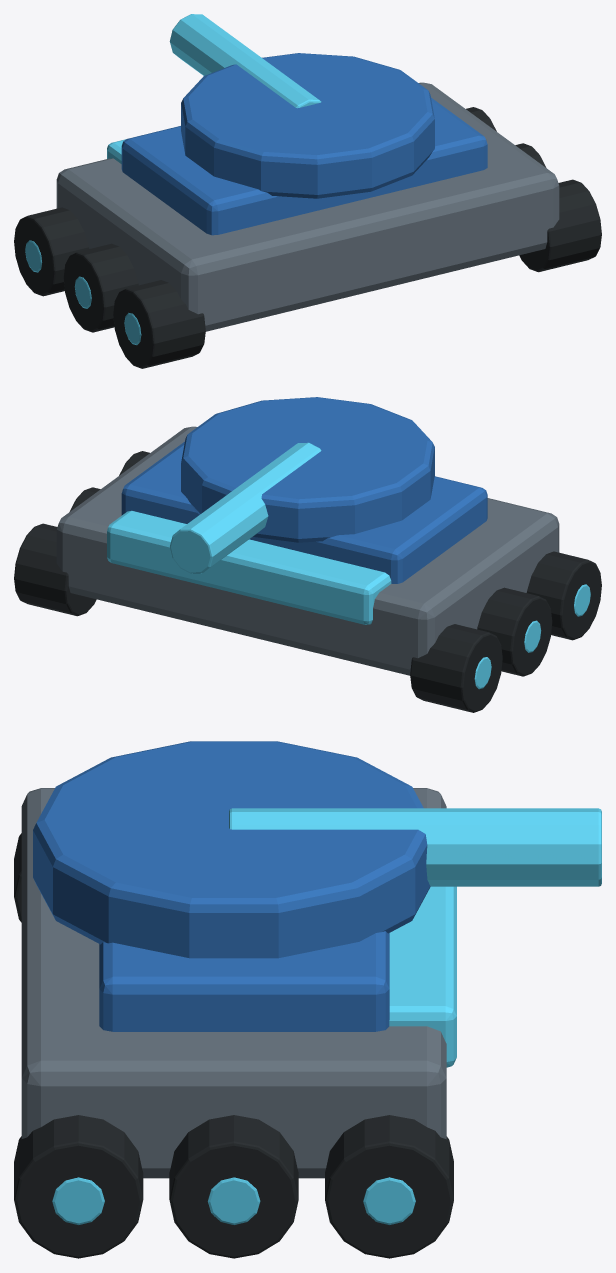
Rendered from SM_Alliance_AL_BulwarkMBT.fbx.
3 views of the same model, one above another, from view 1: azimuth 30°, elevation 25°; view 2: azimuth 150°, elevation 25°; view 3: azimuth 270°, elevation 25° (orthographic). The views are drawn at different scales.
Parts seen in each view (by area): view 1: SM_Alliance_AL_BulwarkMBT, SM_Alliance_AL_BulwarkMBT_Turret, SM_Alliance_AL_BulwarkMBT_UpperHull, SM_Alliance_AL_BulwarkMBT_Wheel_00, SM_Alliance_AL_BulwarkMBT_Barrel, SM_Alliance_AL_BulwarkMBT_Wheel_01, SM_Alliance_AL_BulwarkMBT_Wheel_02, SM_Alliance_AL_BulwarkMBT_Wheel_03; view 2: SM_Alliance_AL_BulwarkMBT, SM_Alliance_AL_BulwarkMBT_Turret, SM_Alliance_AL_BulwarkMBT_Glacis, SM_Alliance_AL_BulwarkMBT_UpperHull, SM_Alliance_AL_BulwarkMBT_Barrel, SM_Alliance_AL_BulwarkMBT_Wheel_02, SM_Alliance_AL_BulwarkMBT_Wheel_00, SM_Alliance_AL_BulwarkMBT_Wheel_01, SM_Alliance_AL_BulwarkMBT_Wheel_05; view 3: SM_Alliance_AL_BulwarkMBT_Turret, SM_Alliance_AL_BulwarkMBT, SM_Alliance_AL_BulwarkMBT_UpperHull, SM_Alliance_AL_BulwarkMBT_Barrel, SM_Alliance_AL_BulwarkMBT_Wheel_03, SM_Alliance_AL_BulwarkMBT_Wheel_05, SM_Alliance_AL_BulwarkMBT_Wheel_04, SM_Alliance_AL_BulwarkMBT_Glacis, SM_Alliance_AL_BulwarkMBT_Hub_04, SM_Alliance_AL_BulwarkMBT_Hub_05, SM_Alliance_AL_BulwarkMBT_Hub_03.
Boxes of the visible parts, x1,y1,x2,y2 form: SM_Alliance_AL_BulwarkMBT: (56,82,559,331); SM_Alliance_AL_BulwarkMBT_Turret: (181,53,434,198); SM_Alliance_AL_BulwarkMBT_UpperHull: (121,97,487,235); SM_Alliance_AL_BulwarkMBT_Wheel_00: (113,280,205,368); SM_Alliance_AL_BulwarkMBT_Barrel: (169,14,321,108); SM_Alliance_AL_BulwarkMBT_Wheel_01: (63,243,138,332); SM_Alliance_AL_BulwarkMBT_Wheel_02: (14,207,89,296); SM_Alliance_AL_BulwarkMBT_Wheel_03: (519,179,601,272); SM_Alliance_AL_BulwarkMBT: (56,426,559,675); SM_Alliance_AL_BulwarkMBT_Turret: (181,397,434,542); SM_Alliance_AL_BulwarkMBT_Glacis: (107,510,391,624); SM_Alliance_AL_BulwarkMBT_UpperHull: (121,441,487,583); SM_Alliance_AL_BulwarkMBT_Barrel: (170,442,321,573); SM_Alliance_AL_BulwarkMBT_Wheel_02: (410,624,502,712); SM_Alliance_AL_BulwarkMBT_Wheel_00: (526,551,601,640); SM_Alliance_AL_BulwarkMBT_Wheel_01: (477,587,552,676); SM_Alliance_AL_BulwarkMBT_Wheel_05: (14,523,96,616); SM_Alliance_AL_BulwarkMBT_Turret: (33,741,430,958); SM_Alliance_AL_BulwarkMBT: (21,788,446,1178); SM_Alliance_AL_BulwarkMBT_UpperHull: (99,931,389,1031); SM_Alliance_AL_BulwarkMBT_Barrel: (229,808,601,886); SM_Alliance_AL_BulwarkMBT_Wheel_03: (14,1115,143,1258); SM_Alliance_AL_BulwarkMBT_Wheel_05: (325,1115,453,1258); SM_Alliance_AL_BulwarkMBT_Wheel_04: (169,1115,298,1258); SM_Alliance_AL_BulwarkMBT_Glacis: (389,886,456,1067); SM_Alliance_AL_BulwarkMBT_Hub_04: (207,1177,260,1224); SM_Alliance_AL_BulwarkMBT_Hub_05: (363,1177,415,1224); SM_Alliance_AL_BulwarkMBT_Hub_03: (52,1177,104,1224).
Size of what is drawn, in the model's own units: 504 by 363 by 188.
